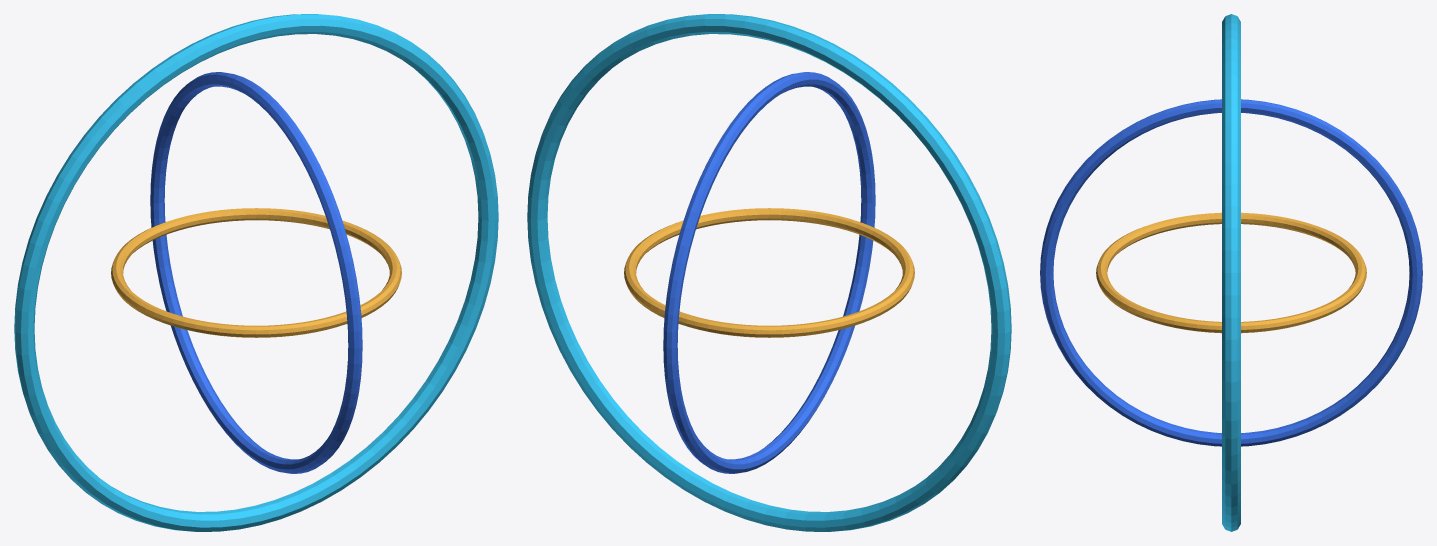
The model's file is 12_L84_InertialReferenceTargetHologram.fbx.
3 views of the same model, side by side, from view 1: azimuth 30°, elevation 25°; view 2: azimuth 150°, elevation 25°; view 3: azimuth 270°, elevation 25° (orthographic). The views are drawn at different scales.
Visible parts, largest first — view 1: L84_InertialReferenceTargetHologram; view 2: L84_InertialReferenceTargetHologram; view 3: L84_InertialReferenceTargetHologram.
Boxes of the visible parts, x1,y1,x2,y2 form: L84_InertialReferenceTargetHologram: (14, 14, 498, 531); L84_InertialReferenceTargetHologram: (527, 14, 1011, 531); L84_InertialReferenceTargetHologram: (1040, 14, 1422, 531).
Size of the model in its own units: 135 by 135 by 99.8.
